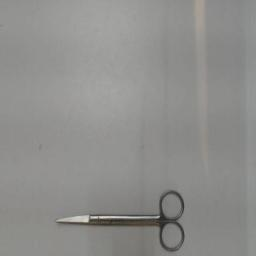Curved Mayo Scissors: (52, 187, 188, 255)
